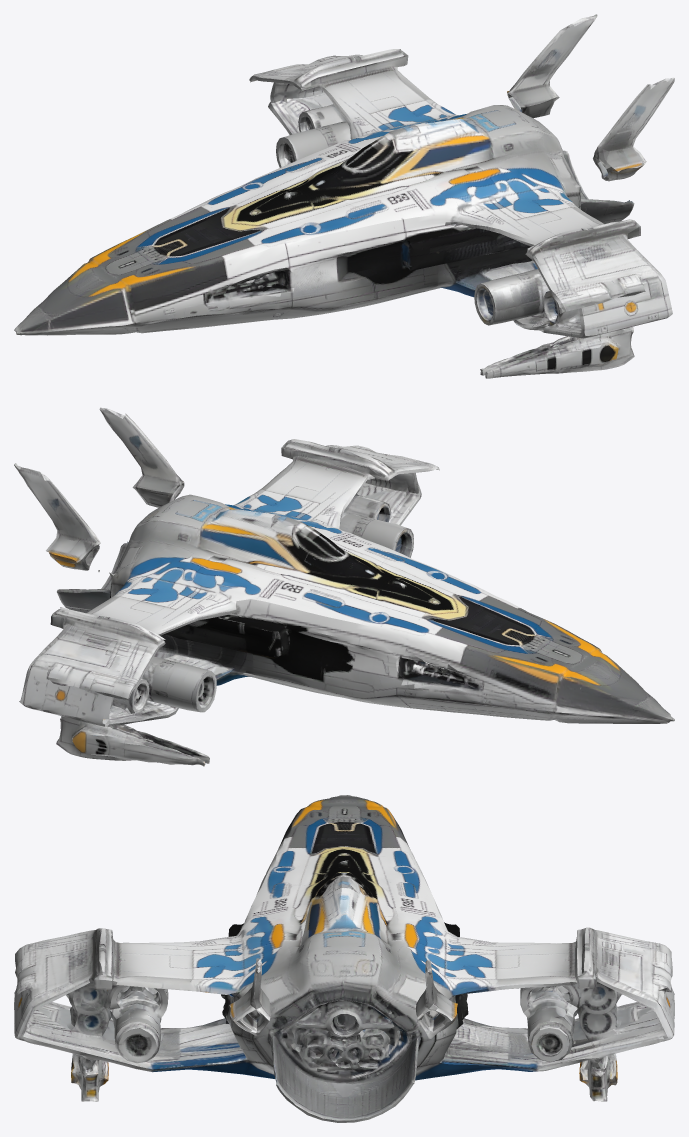
File: ship22.glb
3 views of the same model, one above another, from view 1: azimuth 30°, elevation 25°; view 2: azimuth 150°, elevation 25°; view 3: azimuth 270°, elevation 25° (orthographic). The views are drawn at different scales.
Parts seen in each view (by area): view 1: Mesh0; view 2: Mesh0; view 3: Mesh0.
Part boxes in pixels (bbox=[...]): Mesh0: bbox=[14, 14, 674, 378]; Mesh0: bbox=[14, 407, 674, 766]; Mesh0: bbox=[14, 795, 674, 1122].
Size of the model in its own units: 1.91 by 0.5704 by 1.68.
1 material, 1 textured.
